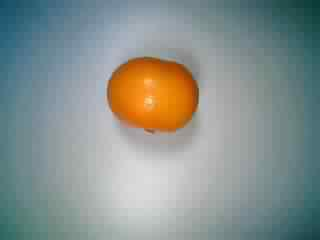orange: (102, 48, 203, 143)
